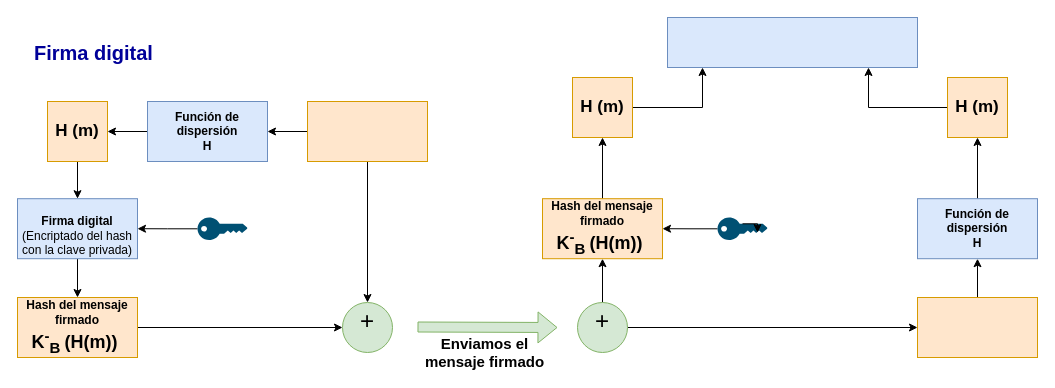
This 1055x388 diagram has some shape labels left out. The centre of each missing label's shape, as x and y in pixels:
"K + B Clave pública del usuario" goes at (x=742, y=228).
"K - B Clave privada del usuario" goes at (x=222, y=228).
"Mensaje Largo (m)" goes at (x=367, y=131).
"Obtenemos el Mensaje Original m" goes at (x=977, y=327).
"¿Son iguales? Si son iguales firma verificada!!!" goes at (x=792, y=42).
